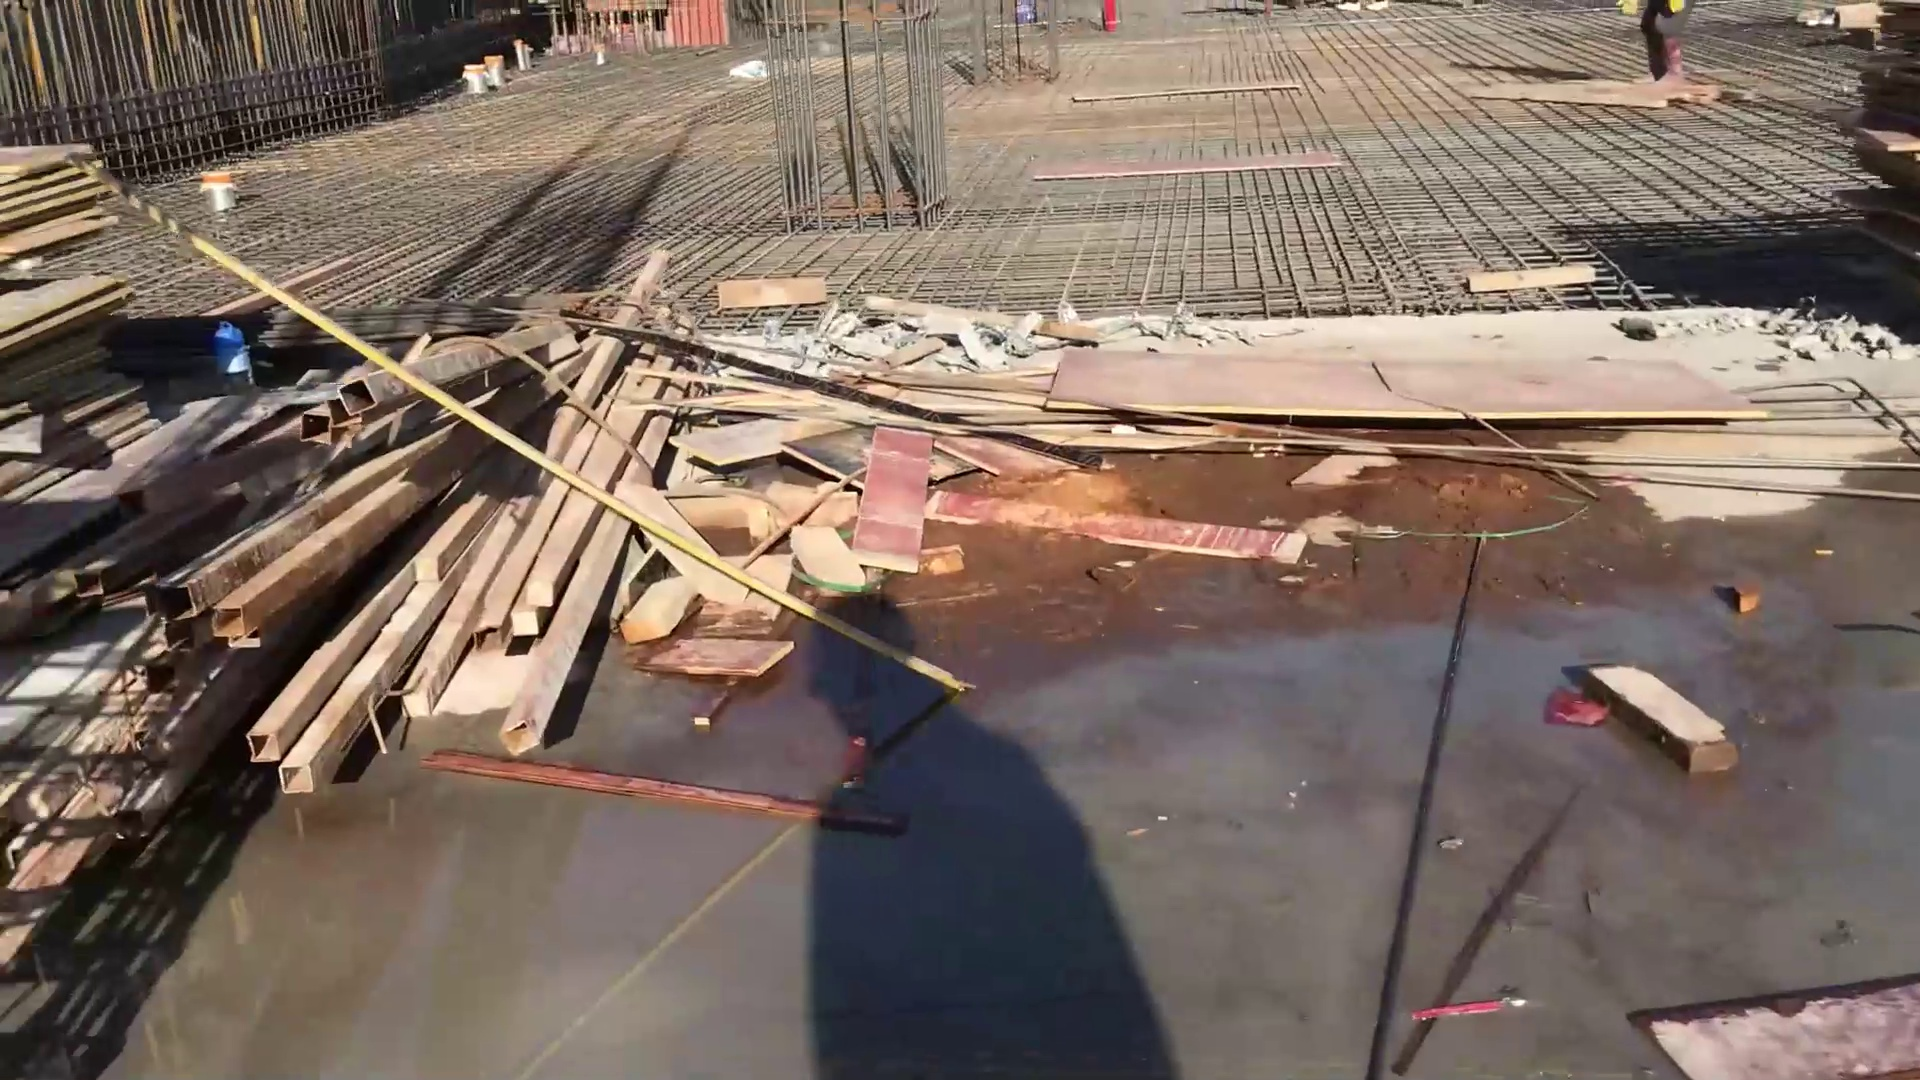board: (1, 102, 189, 510)
